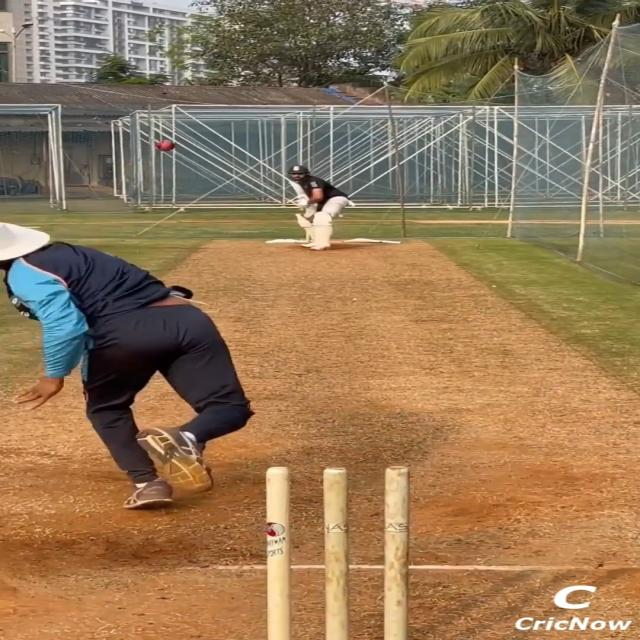ball: (154, 140, 176, 152)
stump: (261, 461, 414, 640)
